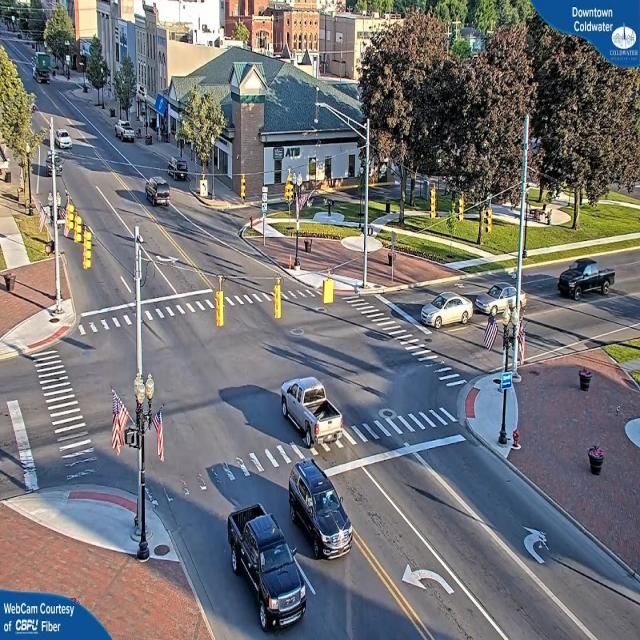car: (222, 508, 308, 636), (286, 462, 353, 563), (280, 375, 336, 448), (556, 260, 614, 298), (476, 276, 526, 318), (418, 292, 474, 329), (146, 178, 172, 209), (116, 123, 136, 143), (55, 128, 72, 150)
